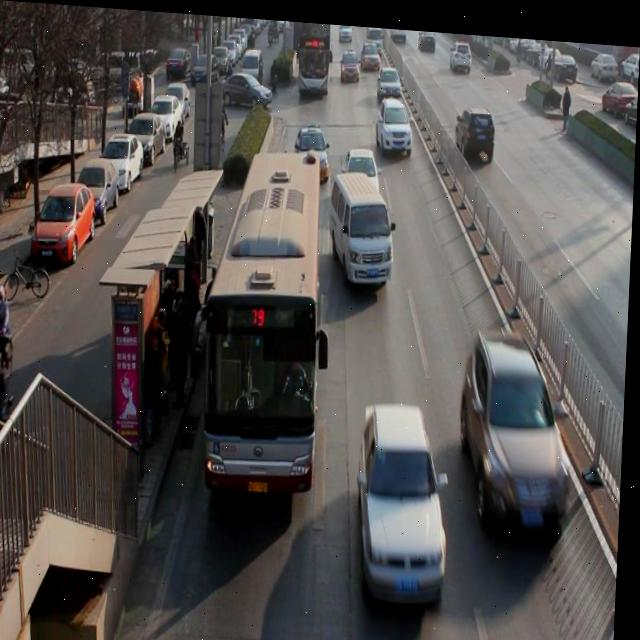car: (463, 325, 583, 543), (355, 396, 458, 613), (342, 146, 384, 216), (377, 94, 416, 154), (455, 105, 497, 158), (297, 120, 331, 176), (378, 63, 404, 96), (451, 35, 474, 69), (341, 45, 363, 80), (361, 37, 381, 68)
truck: (332, 168, 396, 282)
van: (203, 147, 329, 498), (298, 18, 330, 90)
